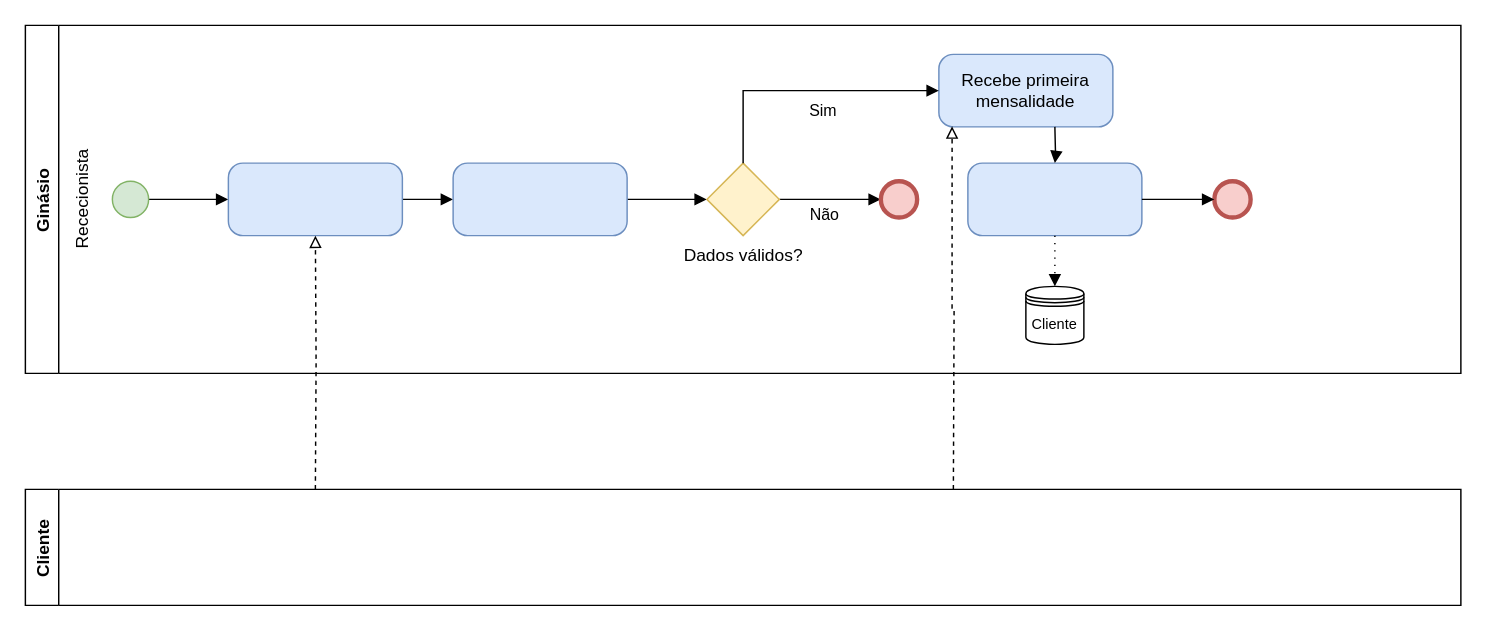
This 1486x631 diagram has some shape labels left out. The centre of each missing label's shape, as x and y in pixels:
"Confirmar inscrição" goes at (x=1054, y=199).
"Recebe dados para inscrição" goes at (x=314, y=199).
"Verifica validade dos dados" goes at (x=539, y=199).
